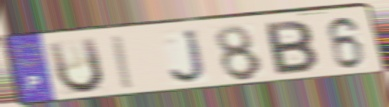6: (326, 15, 368, 70)
8: (213, 23, 265, 82)
B: (263, 19, 321, 78)
I: (111, 33, 137, 92)
J: (168, 27, 210, 86)
U: (45, 35, 107, 97)
